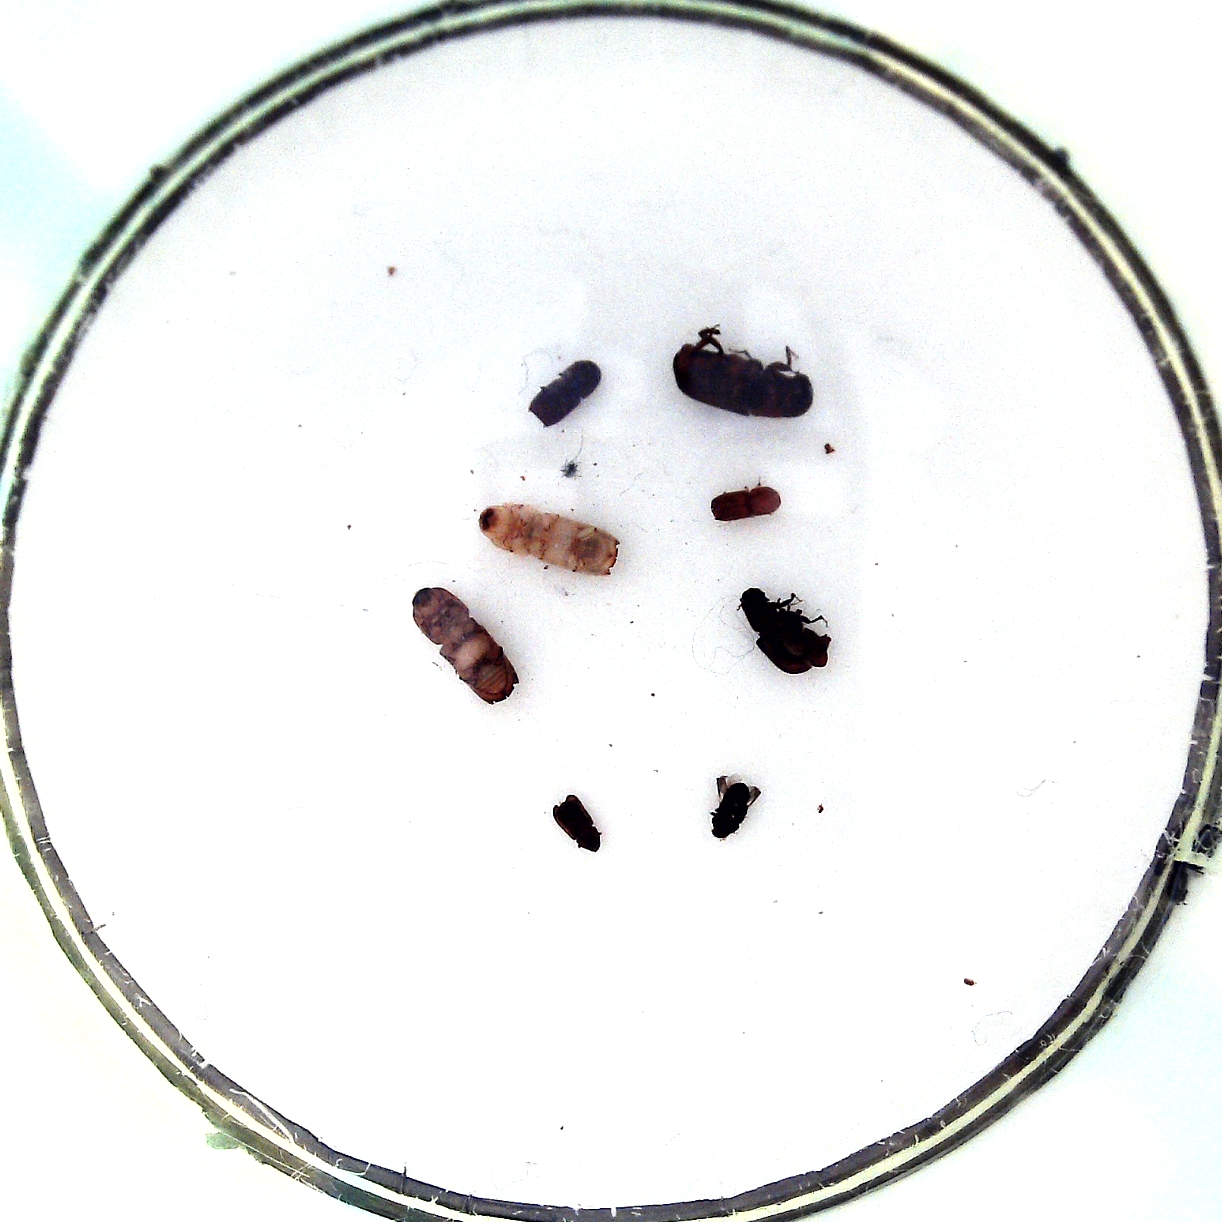Boerner: (412, 587, 520, 705), (478, 502, 620, 576)
Leconte: (673, 344, 814, 417)
acuminatus: (711, 783, 750, 838)
armandi: (741, 587, 831, 675)
coleoptera: (552, 795, 602, 852), (711, 487, 782, 521)
linnaeus: (529, 361, 601, 427)
